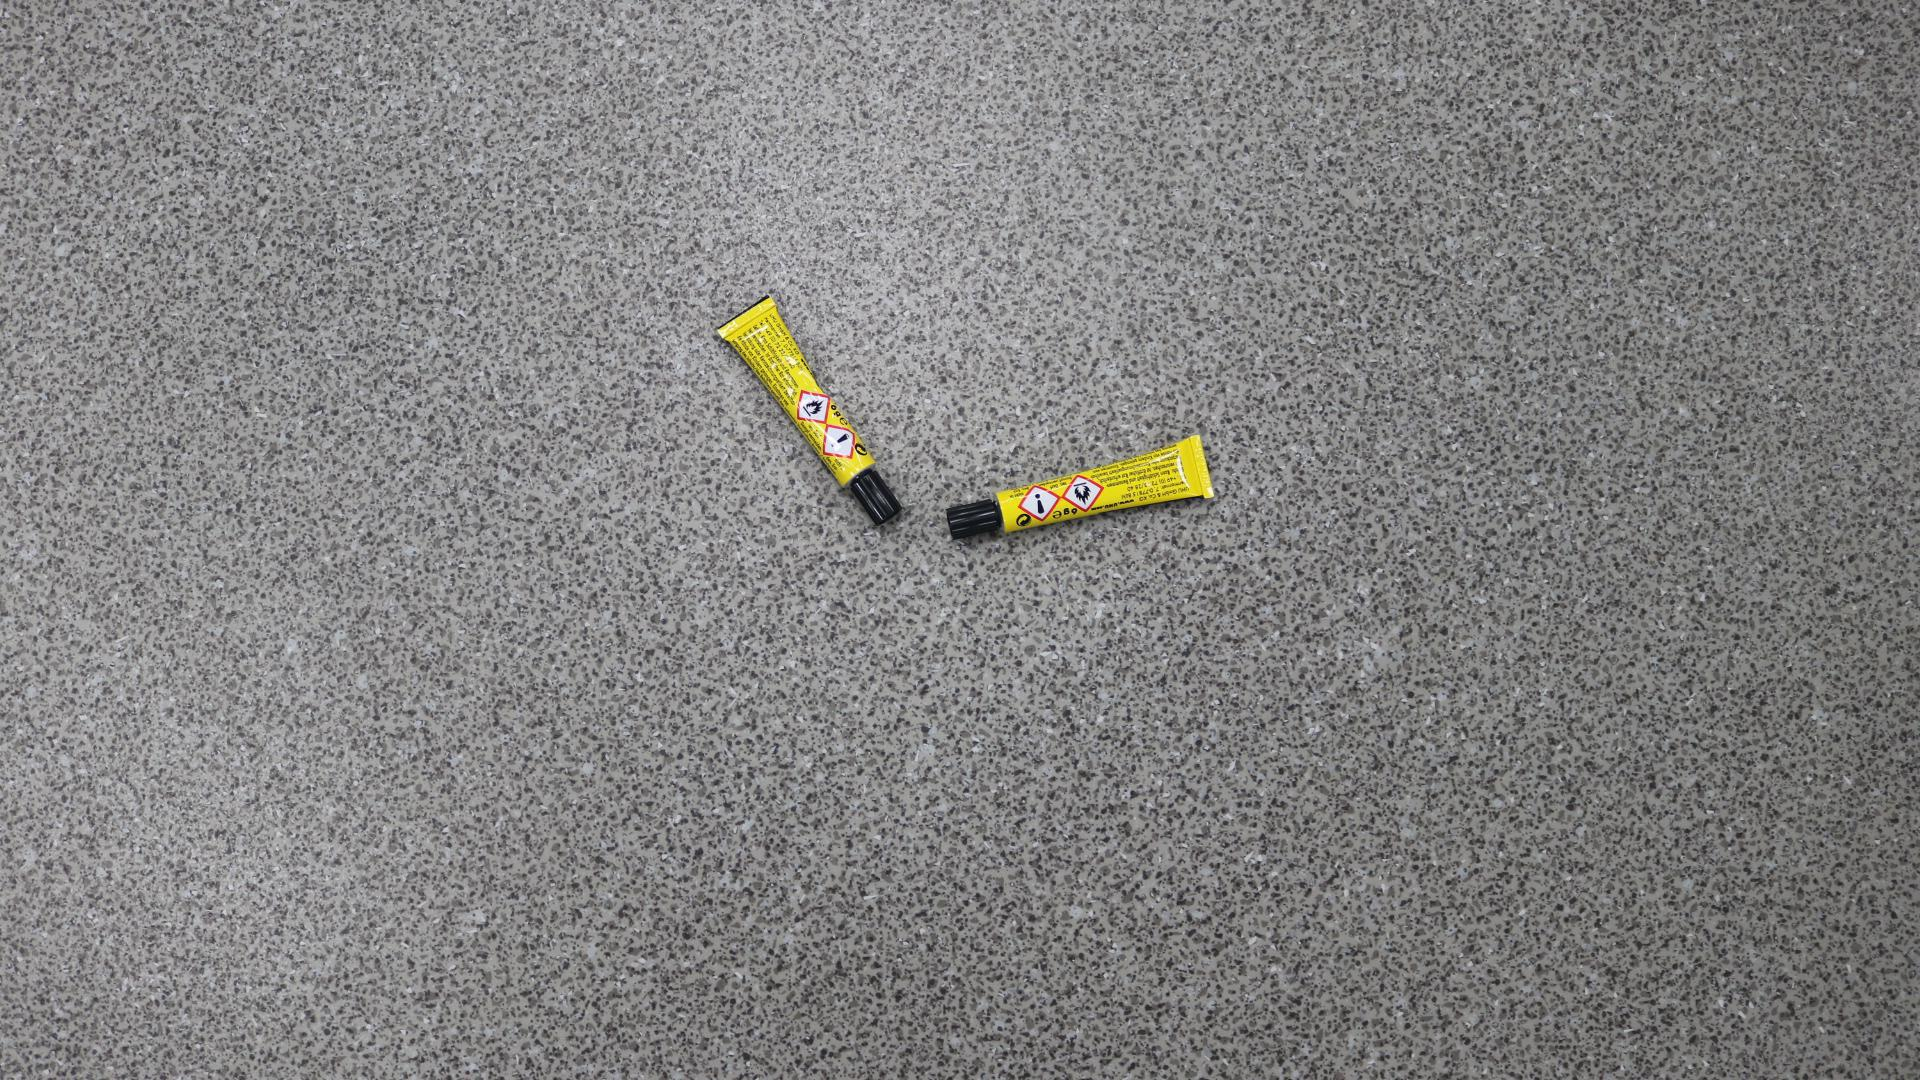Head: (874, 493, 879, 498), (971, 516, 975, 520)
Tail: (742, 316, 747, 321), (1200, 464, 1204, 469)
Tube: (717, 295, 904, 527), (945, 434, 1216, 541)
